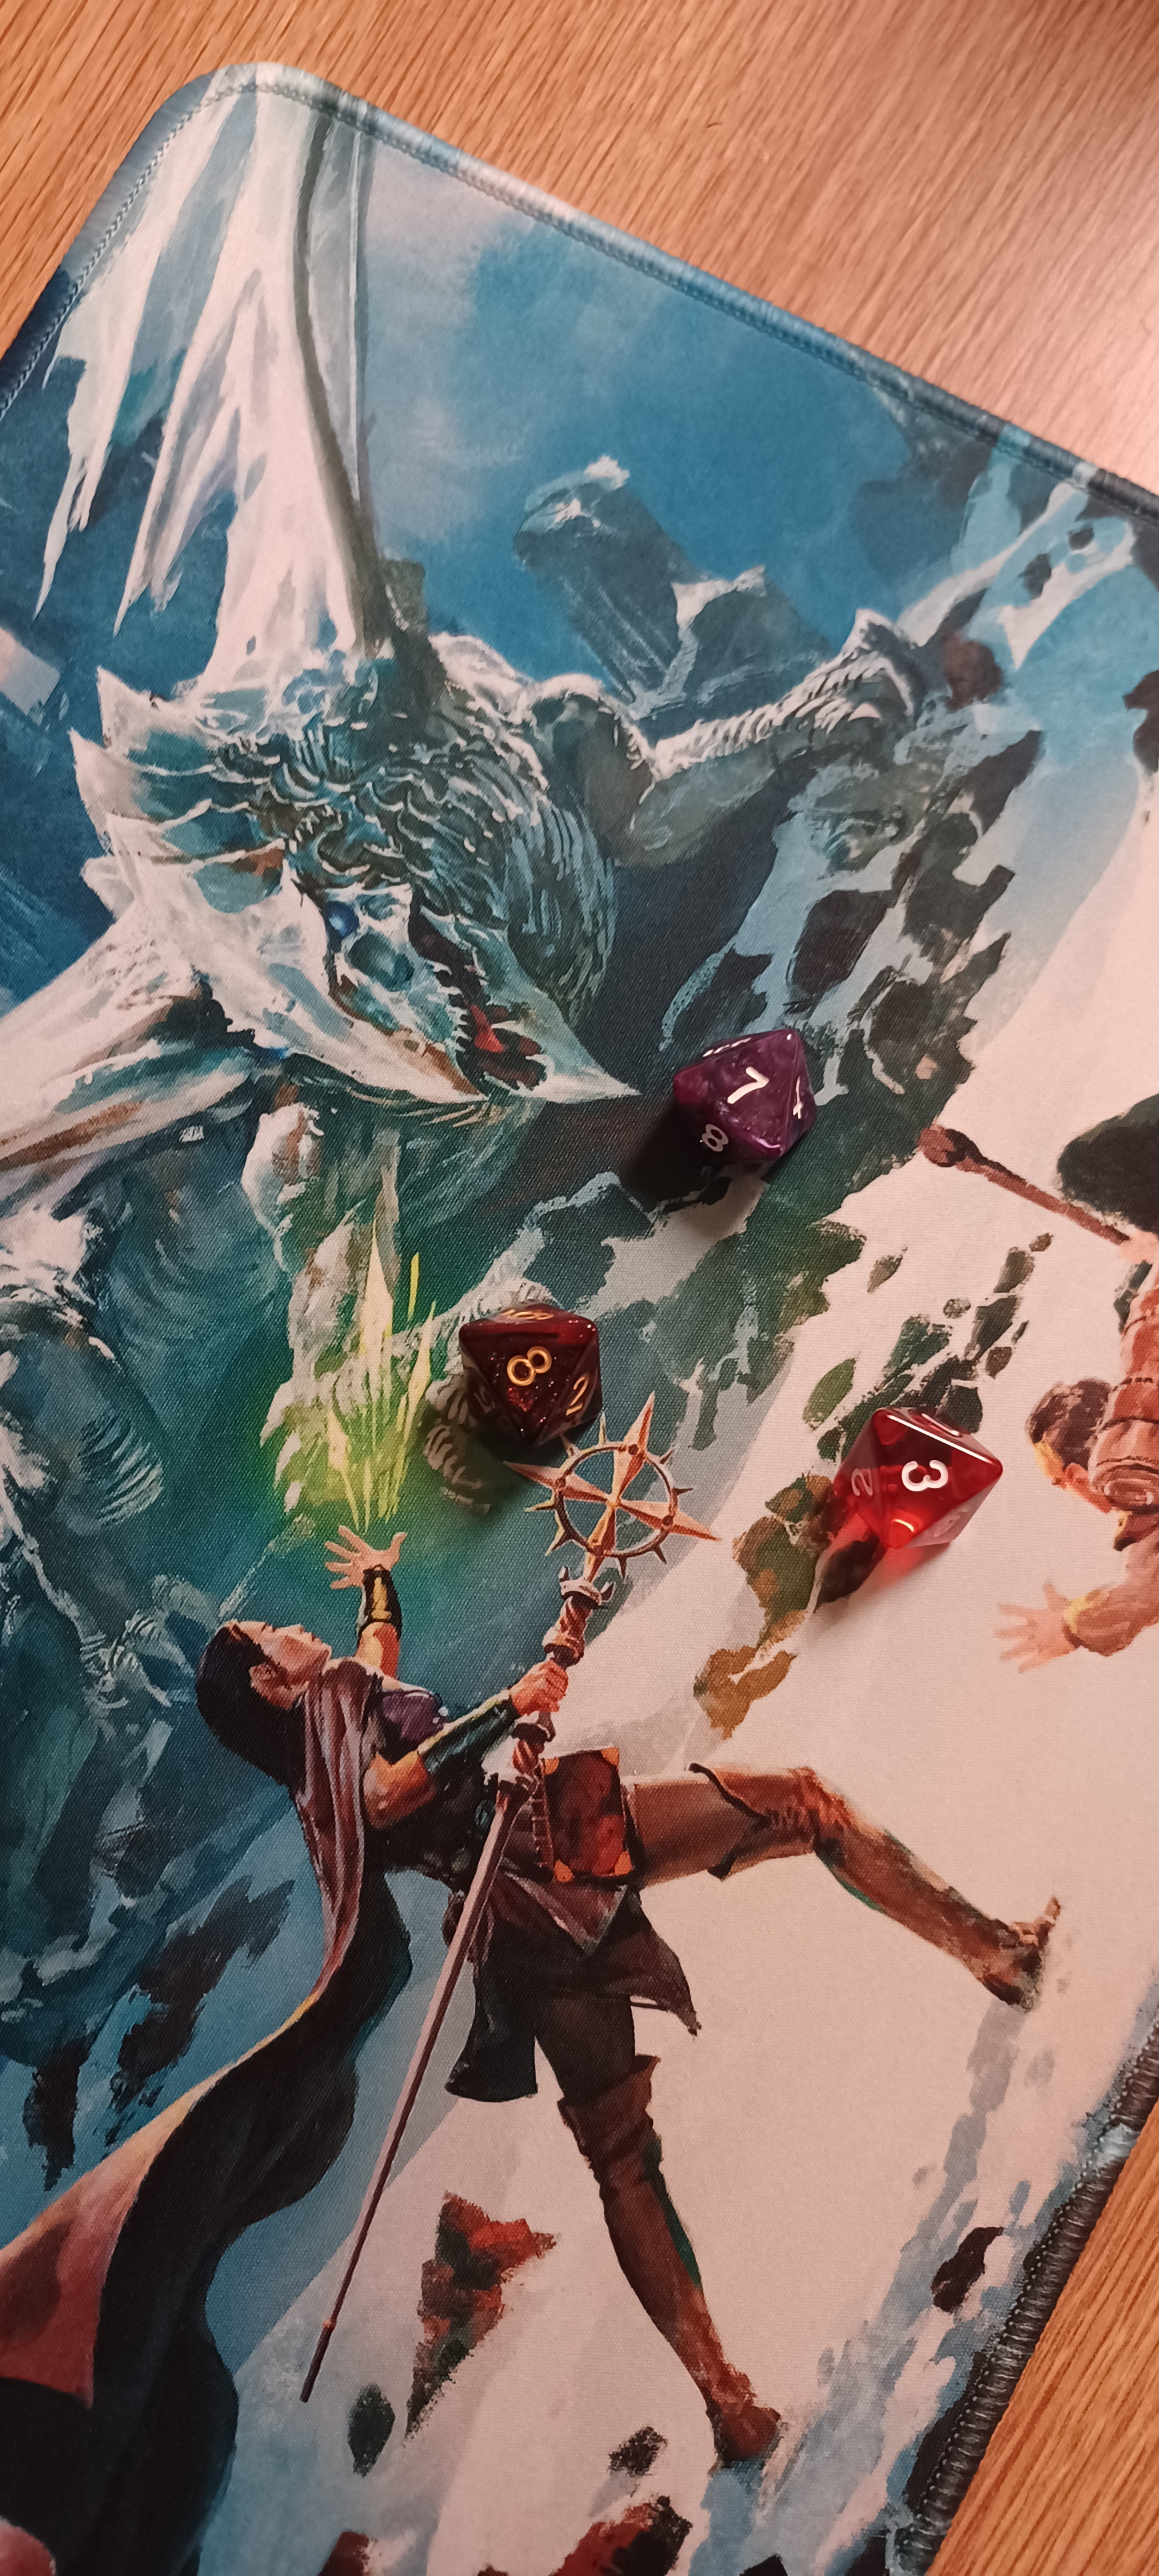eight: (448, 1273, 625, 1464)
seven: (657, 1002, 847, 1186)
three: (788, 1364, 1031, 1579)
